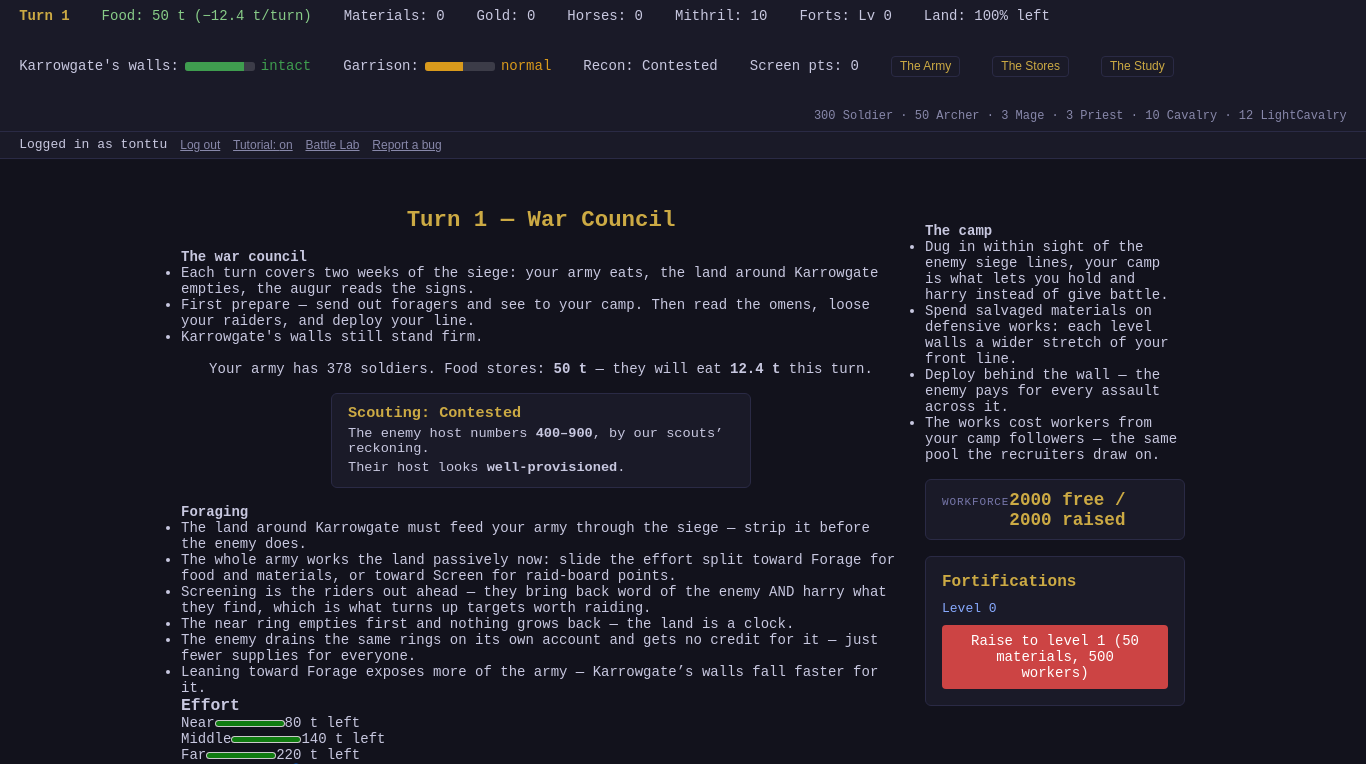
it: Bug report button › surfaces the server error (e.g. rate limit) and keeps the form open
Expected: the heading "Turn 1 — War Council" is shown, [407, 207, 675, 233]
Click the button with test id "bug-report-open" at (407, 145), box [372, 138, 442, 152]
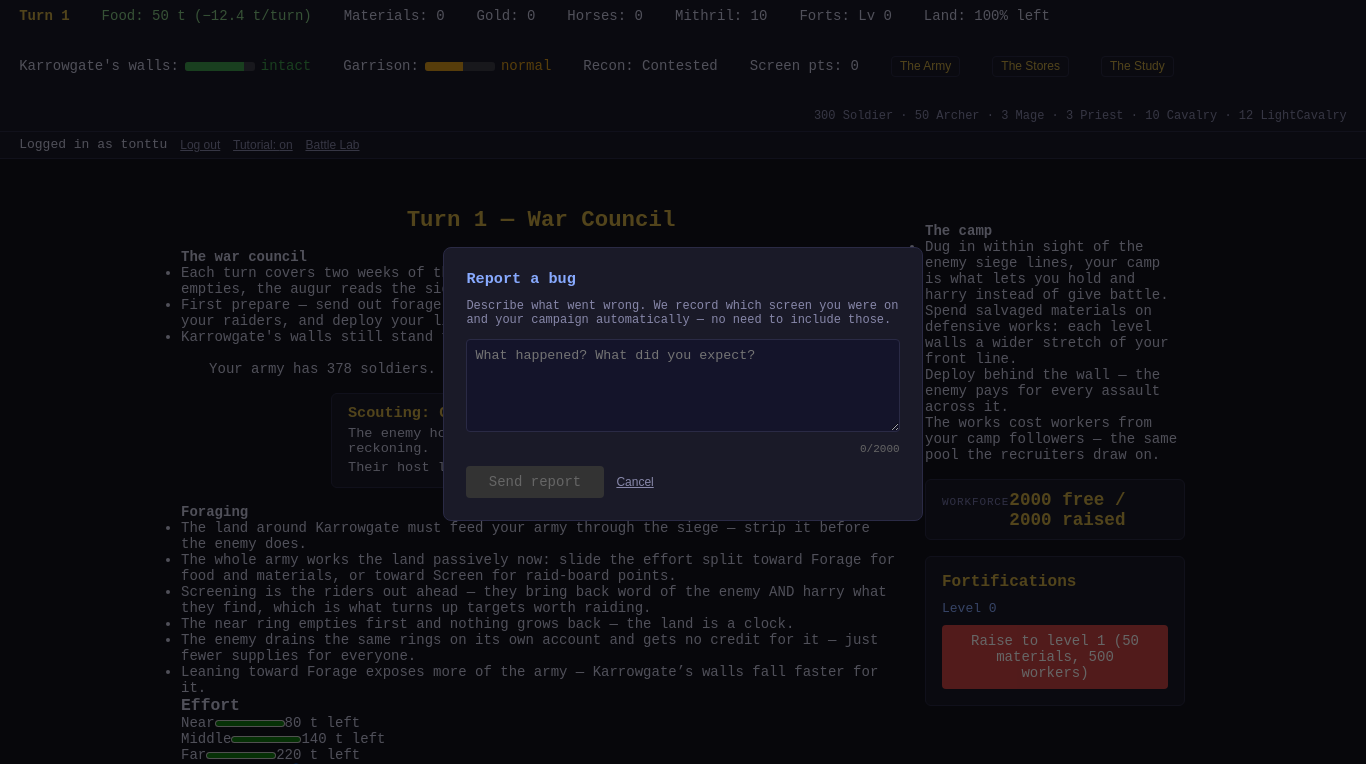
Type "again" into the text box with test id "bug-report-text" at (683, 385), box [466, 338, 900, 432]
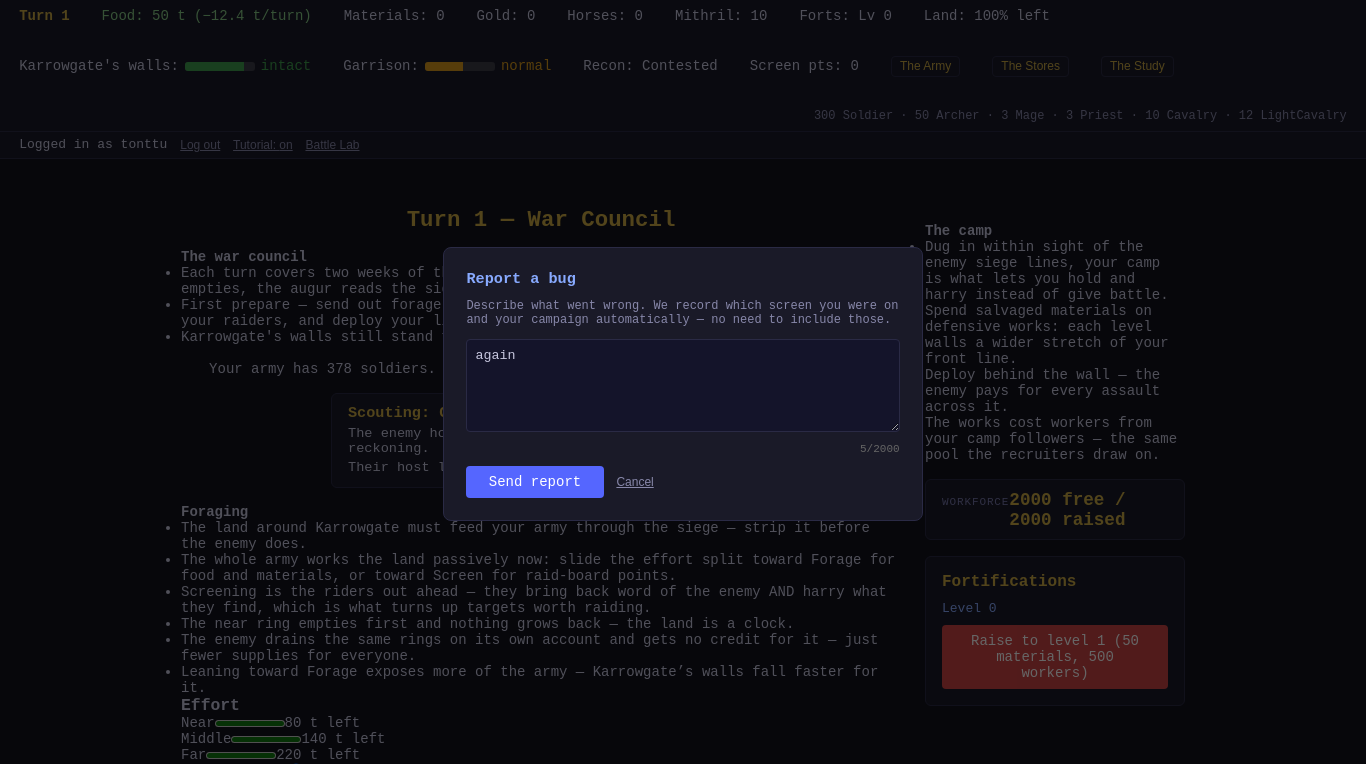
Click the button with test id "bug-report-submit" at (535, 482), box [466, 466, 604, 498]
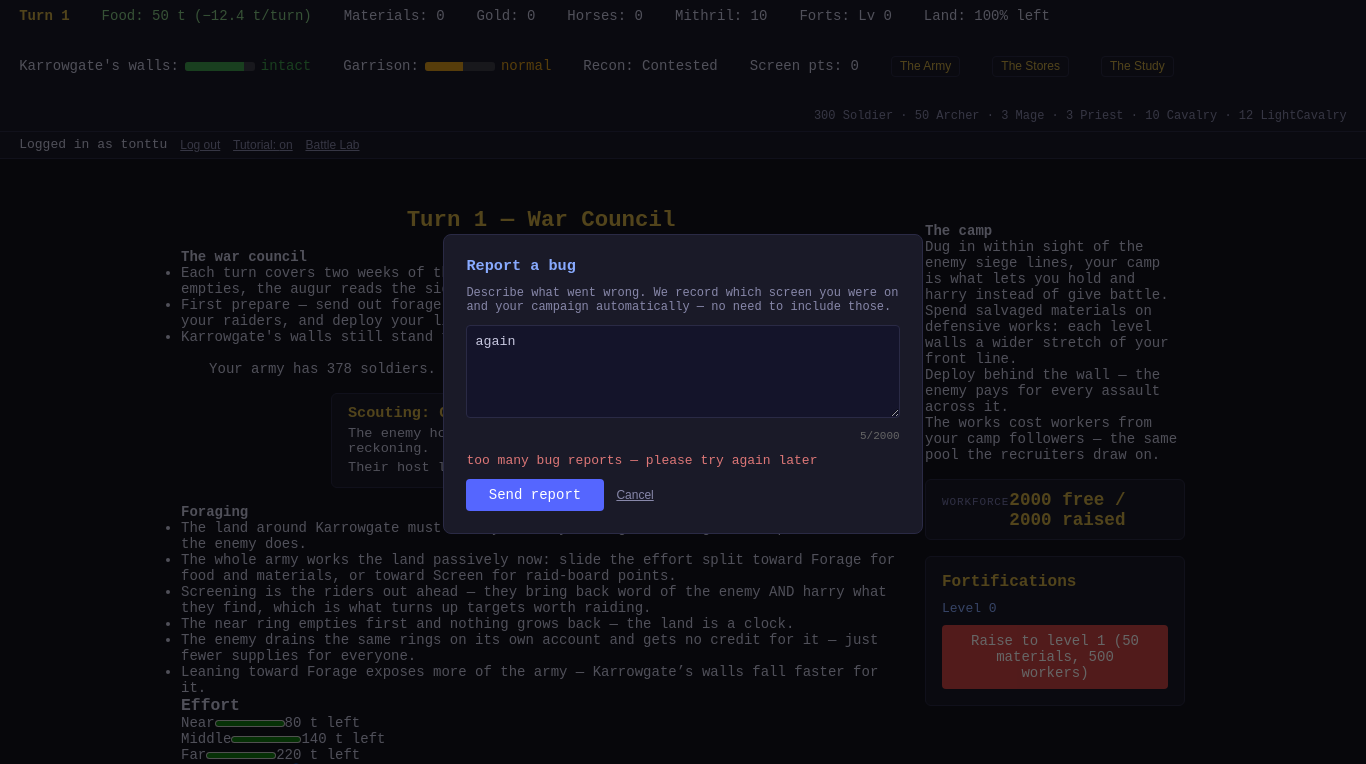
Expected: the text with test id "bug-report-error" shows "too many bug reports", [466, 453, 818, 468]
